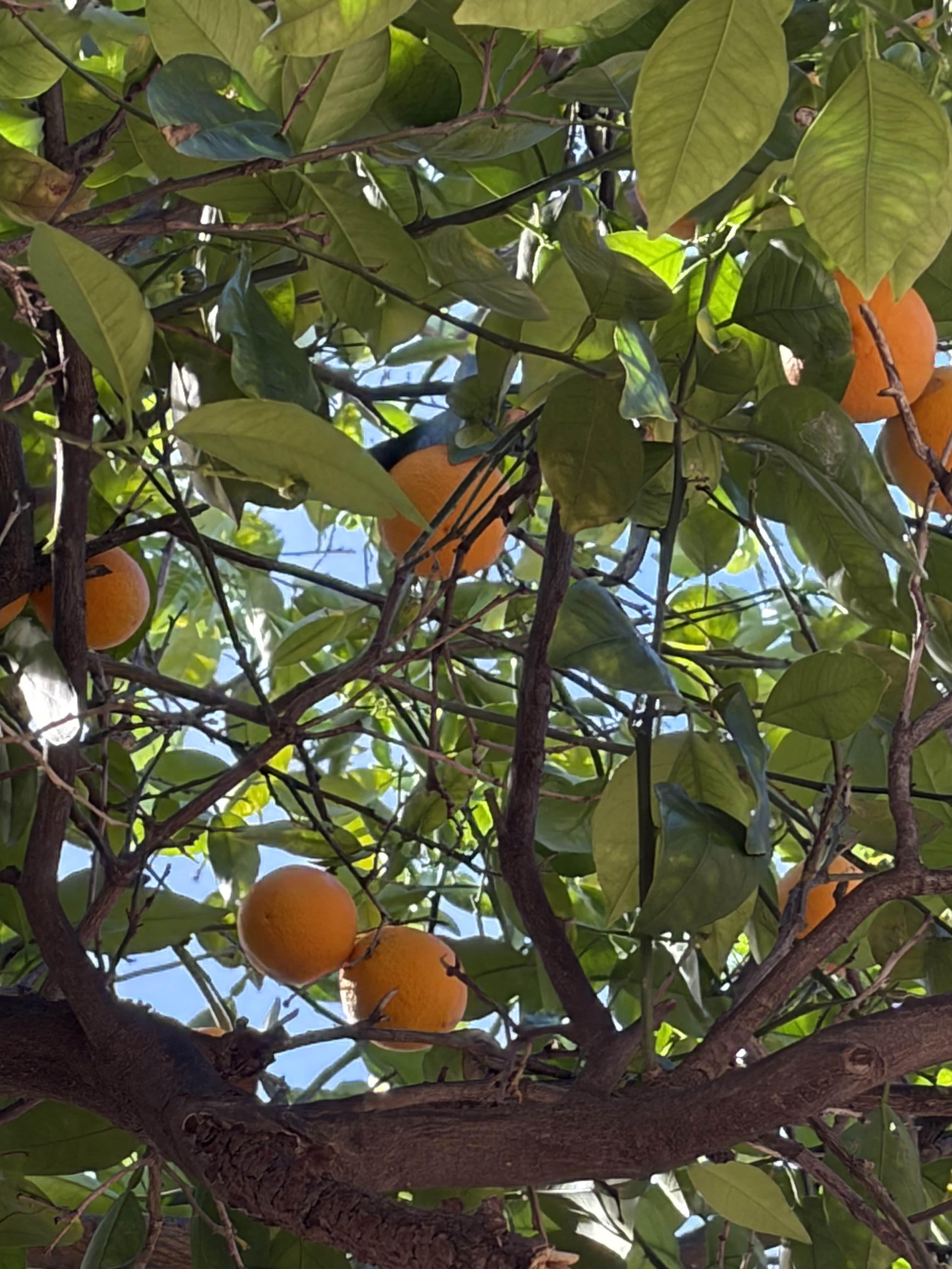orange: (776, 266, 935, 422), (378, 443, 514, 582), (338, 924, 467, 1054), (238, 865, 357, 987), (30, 534, 149, 649), (882, 365, 952, 516), (777, 851, 868, 940), (0, 594, 27, 629), (667, 217, 697, 240)
